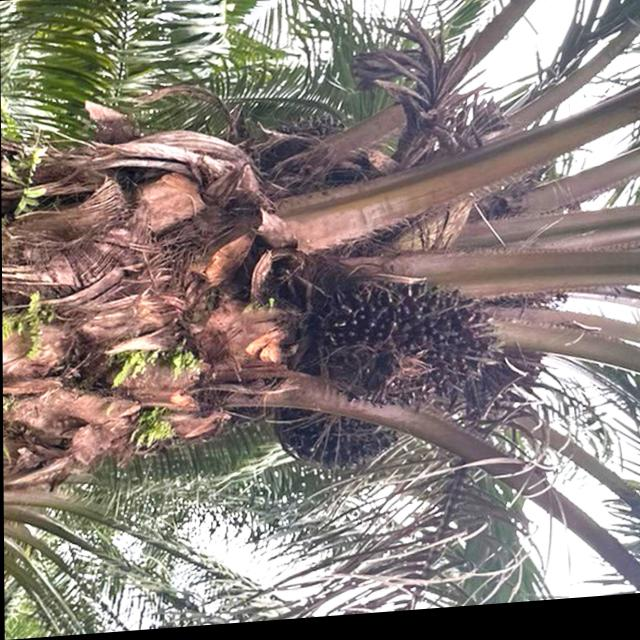ripe: (301, 267, 516, 426)
